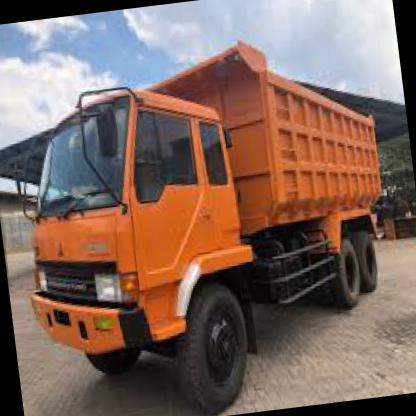truck: (8, 71, 277, 416)
